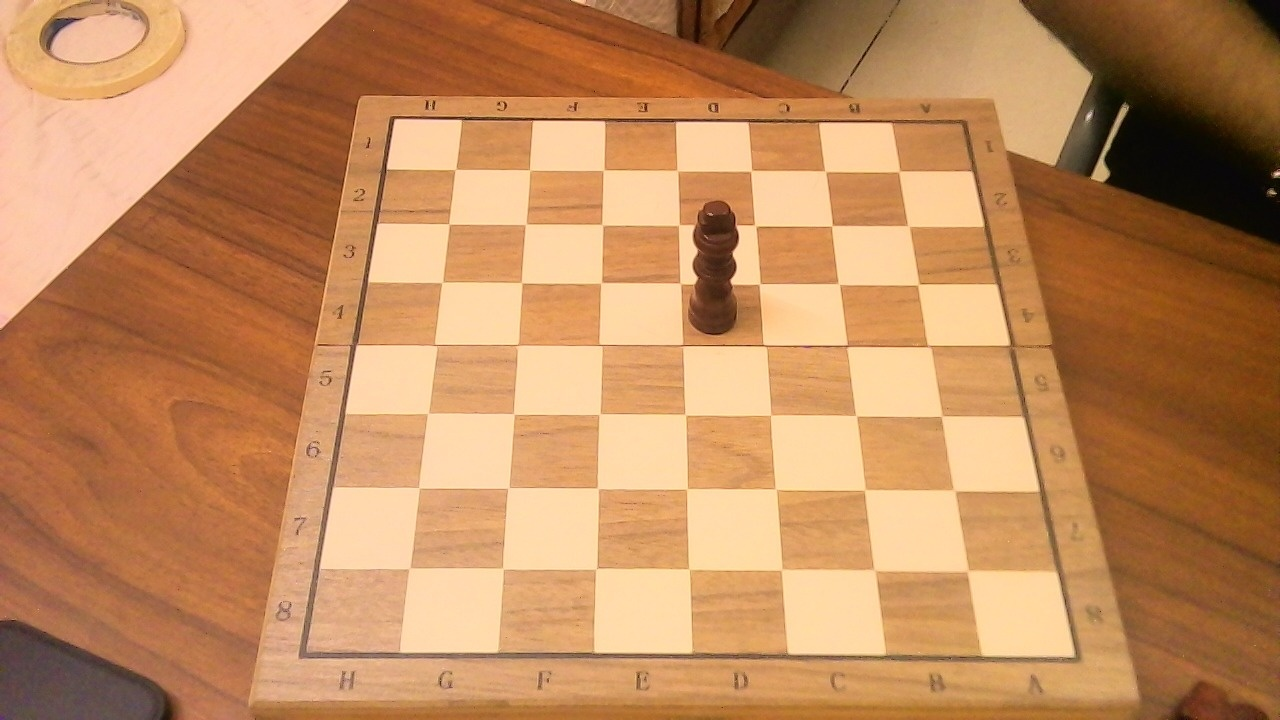k: (685, 187, 758, 339)
